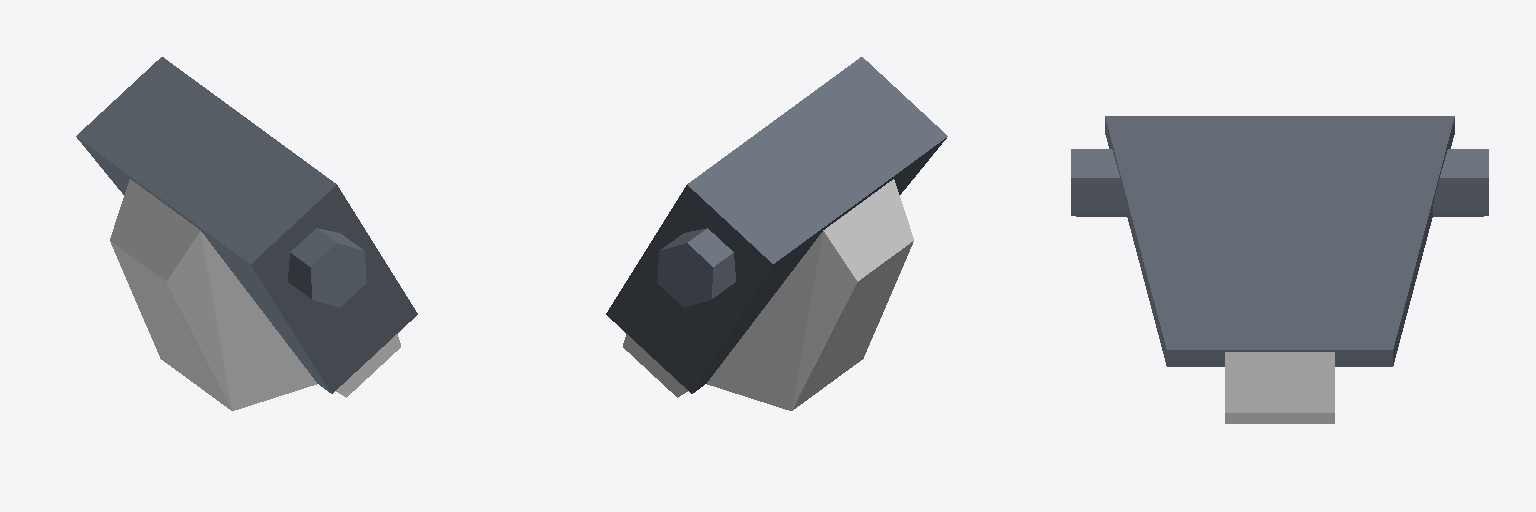
Rendered from torso.obj.
3 renders of one model, left to right at view 1: azimuth 30°, elevation 25°; view 2: azimuth 150°, elevation 25°; view 3: azimuth 270°, elevation 25°, orthographic.
Visible parts, largest first — view 1: robo_Untitled.015; view 2: robo_Untitled.015; view 3: robo_Untitled.015.
Part boxes in pixels (x1,y1,x2,y2): robo_Untitled.015: (76,57,417,410); robo_Untitled.015: (606,57,947,410); robo_Untitled.015: (1071,116,1488,423).
Bounding box in the file's own units: 1.09 × 1.22 × 1.68.